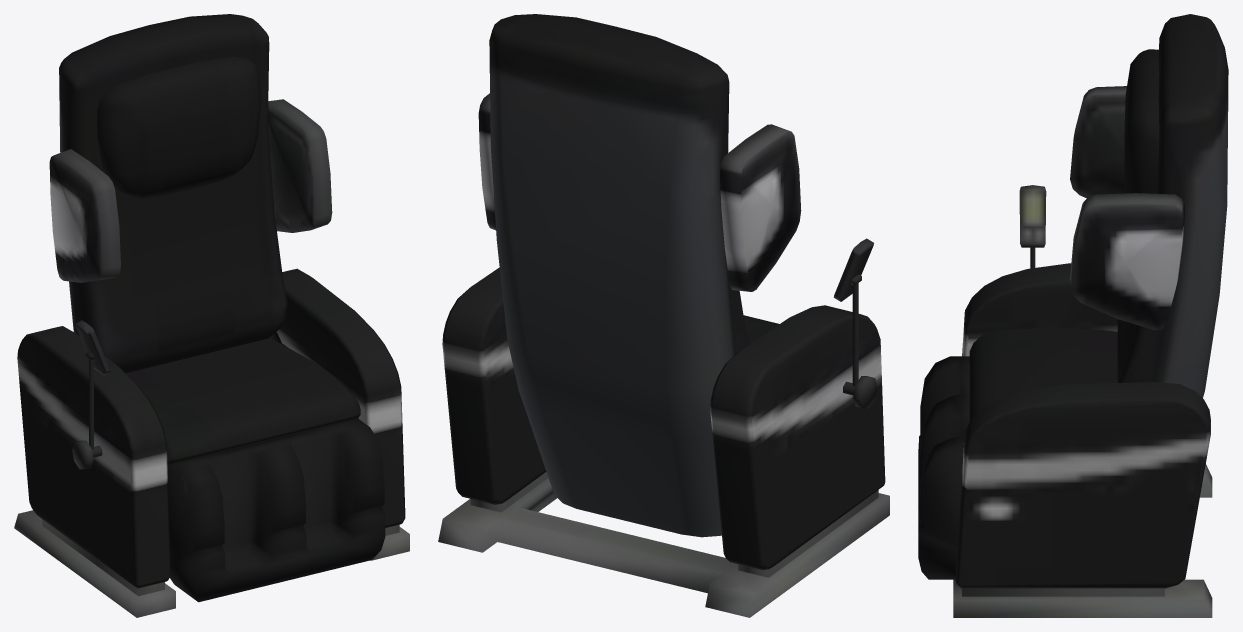
3 renders of one model, left to right at view 1: azimuth 30°, elevation 25°; view 2: azimuth 150°, elevation 25°; view 3: azimuth 270°, elevation 25°, orthographic. The views are drawn at different scales.
Size of the model in its own units: 9.24 by 14.31 by 8.04.
Materials: 1 (1 with a texture image).
